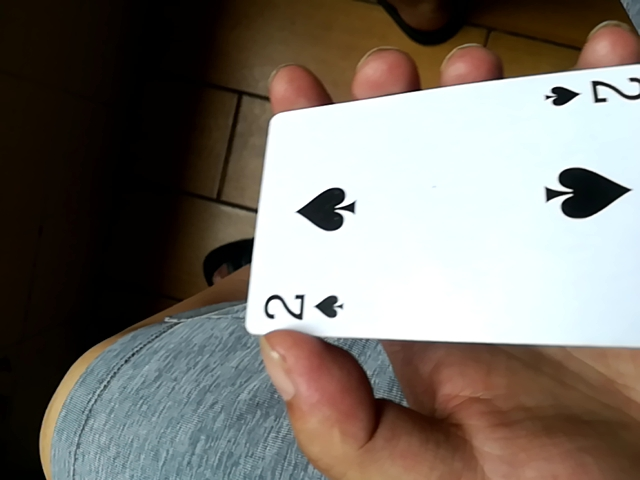ht 2: (247, 59, 640, 350)
